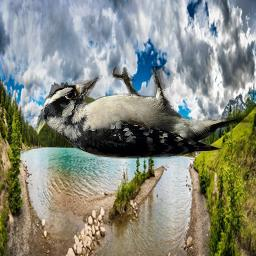Woodpecker: (43, 66, 252, 159)
